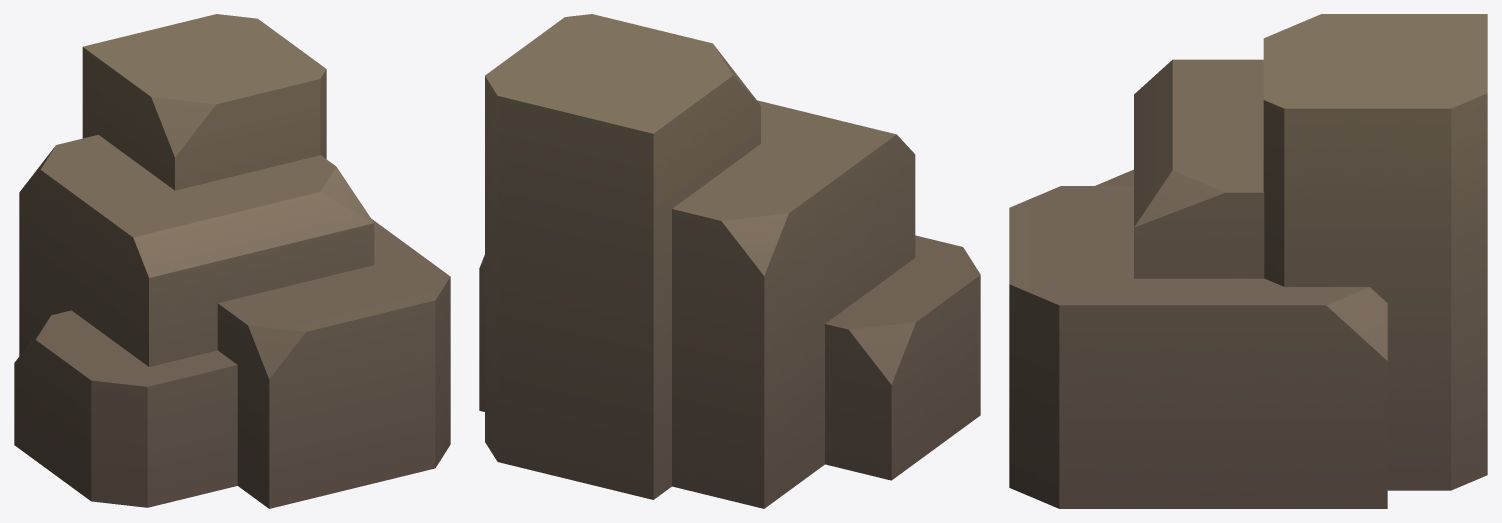
Rendered from dirtMound_1.fbx.
3 renders of one model, left to right at view 1: azimuth 30°, elevation 25°; view 2: azimuth 150°, elevation 25°; view 3: azimuth 270°, elevation 25°, orthographic. The views are drawn at different scales.
Visible parts, largest first — view 1: dirt1; view 2: dirt1; view 3: dirt1.
Boxes of the visible parts, x1,y1,x2,y2 form: dirt1: [14, 14, 450, 508]; dirt1: [479, 14, 980, 508]; dirt1: [1009, 14, 1487, 508].
Size of the model in its own units: 146 by 152 by 134.
